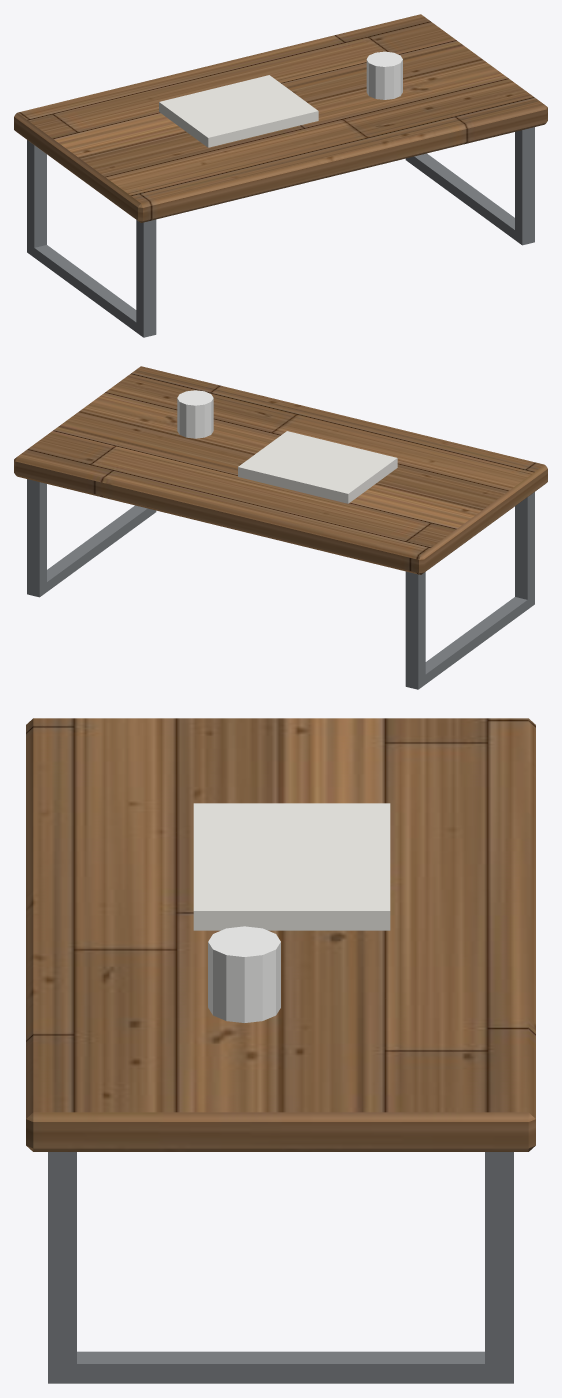
The model's file is coffee_table.glb.
3 views of the same model, one above another, from view 1: azimuth 30°, elevation 25°; view 2: azimuth 150°, elevation 25°; view 3: azimuth 270°, elevation 25° (orthographic). The views are drawn at different scales.
Parts seen in each view (by area): view 1: coffee_table_timber, coffee_table_steel_d, coffee_table_paper, coffee_table_porcelain; view 2: coffee_table_timber, coffee_table_steel_d, coffee_table_paper, coffee_table_porcelain; view 3: coffee_table_timber, coffee_table_steel_d, coffee_table_paper, coffee_table_porcelain.
Boxes of the visible parts, x1=… form: coffee_table_timber: x1=14, y1=14, x2=547, y2=222; coffee_table_steel_d: x1=27, y1=127, x2=534, y2=337; coffee_table_paper: x1=159, y1=75, x2=318, y2=147; coffee_table_porcelain: x1=366, y1=51, x2=402, y2=99; coffee_table_timber: x1=14, y1=366, x2=547, y2=574; coffee_table_steel_d: x1=27, y1=479, x2=534, y2=689; coffee_table_paper: x1=238, y1=431, x2=397, y2=503; coffee_table_porcelain: x1=177, y1=390, x2=213, y2=438; coffee_table_timber: x1=26, y1=718, x2=535, y2=1151; coffee_table_steel_d: x1=48, y1=1152, x2=513, y2=1383; coffee_table_paper: x1=193, y1=803, x2=390, y2=930; coffee_table_porcelain: x1=208, y1=926, x2=280, y2=1022.
Size of the model in its own units: 1.3 by 0.52 by 0.7.
4 materials, 1 textured.
